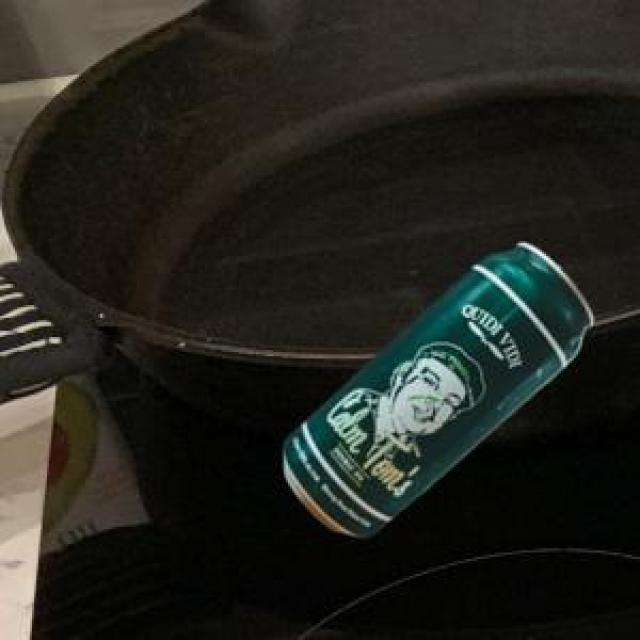logam: (281, 240, 590, 534)
